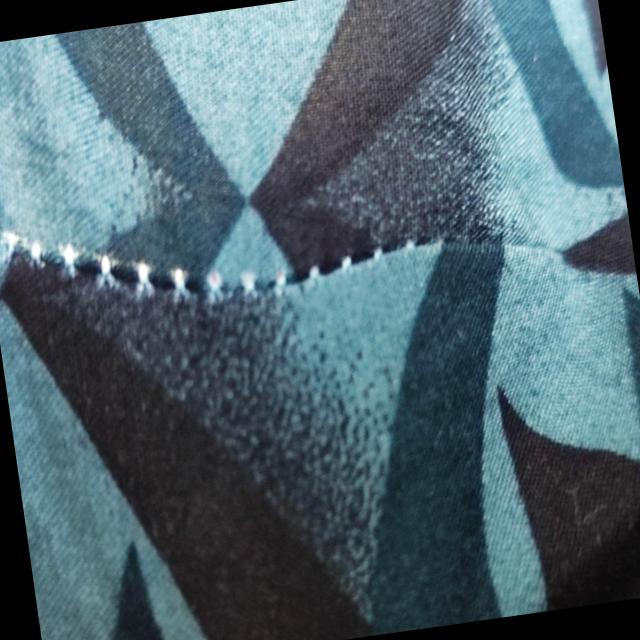gray stitch: (0, 194, 233, 333), (234, 225, 452, 308)
